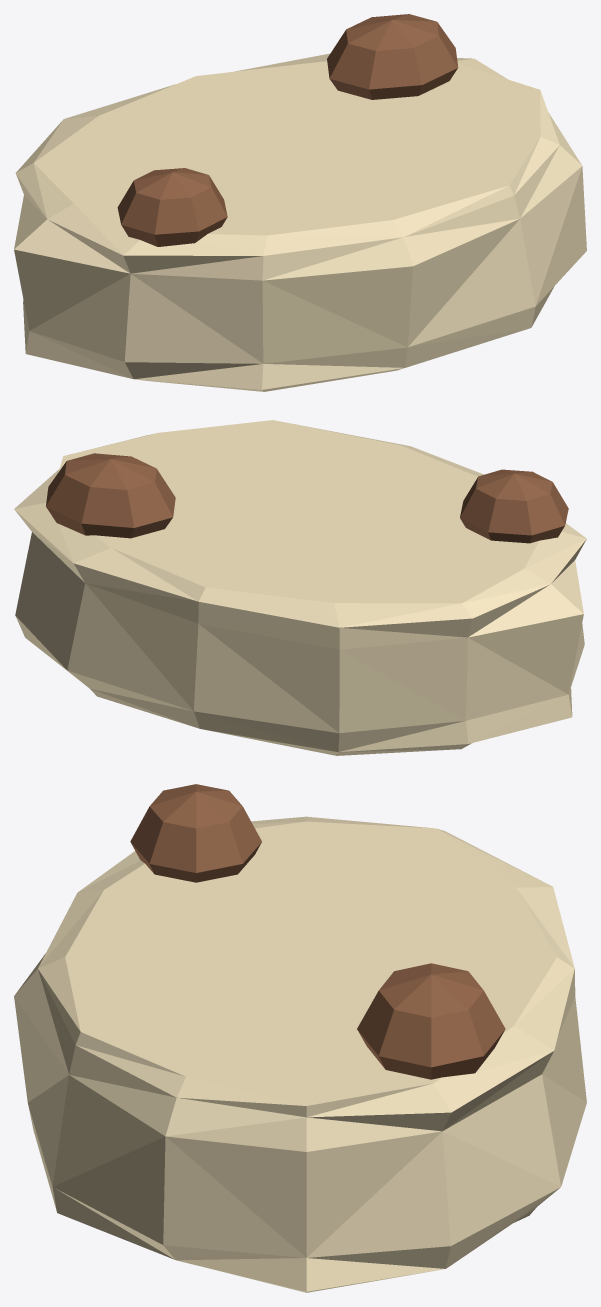
Rendered from SM_StonePath.fbx.
The picture shows the model from 3 angles, top to bottom: view 1: azimuth 30°, elevation 25°; view 2: azimuth 150°, elevation 25°; view 3: azimuth 270°, elevation 25°; orthographic projection. The views are drawn at different scales.
Parts seen in each view (by area): view 1: StonePathMesh; view 2: StonePathMesh; view 3: StonePathMesh.
Boxes of the visible parts, x1,y1,x2,y2 form: StonePathMesh: [14, 14, 586, 391]; StonePathMesh: [14, 420, 586, 755]; StonePathMesh: [14, 784, 586, 1292].
Size of the model in its own units: 0.3291 by 0.118 by 0.2389.
